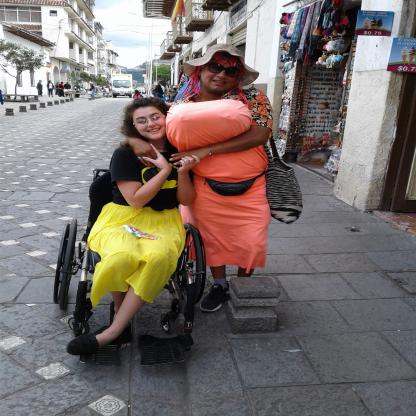wheelchair: (48, 100, 209, 361)
